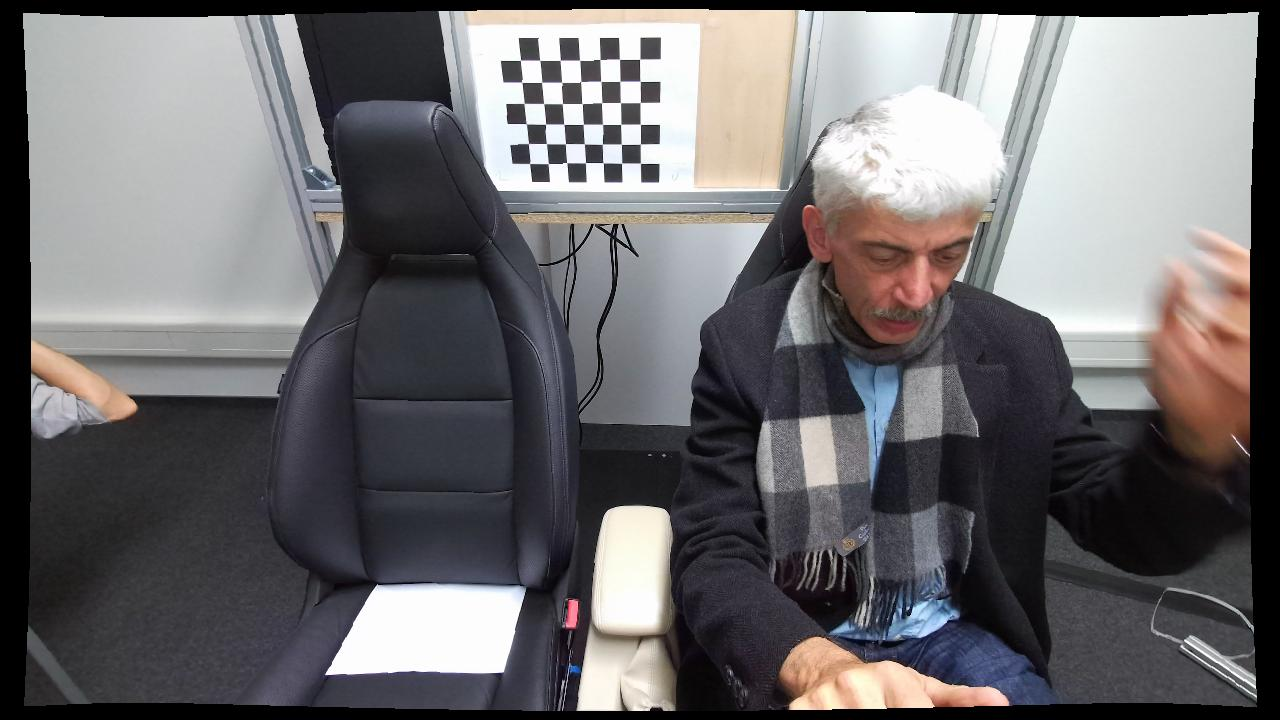Distracted: (672, 94, 1250, 706)
